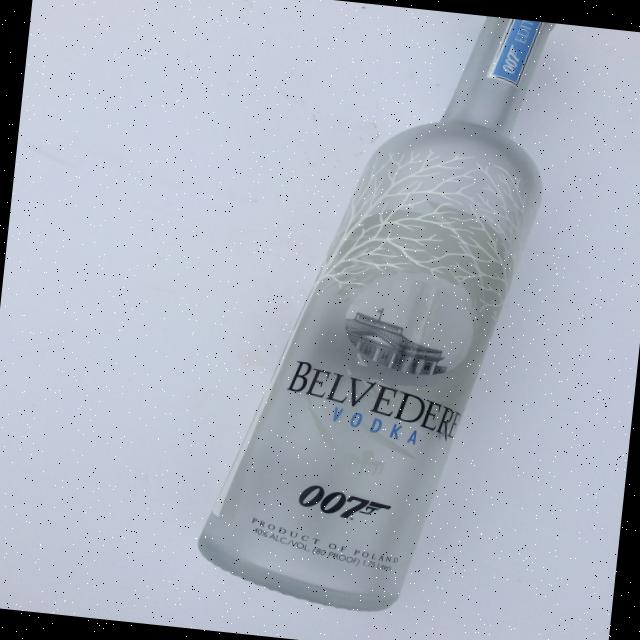glass: (191, 0, 561, 626)
